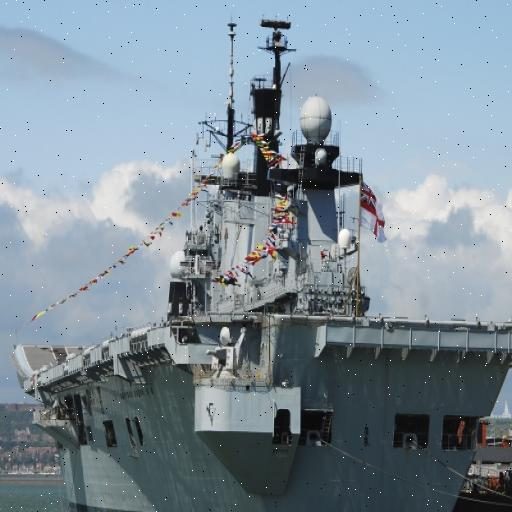Portanaves: (11, 6, 512, 512)
